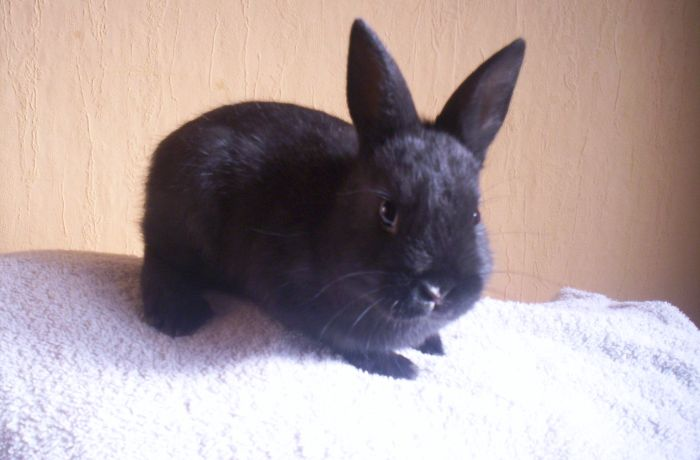bunny: (119, 10, 542, 392)
